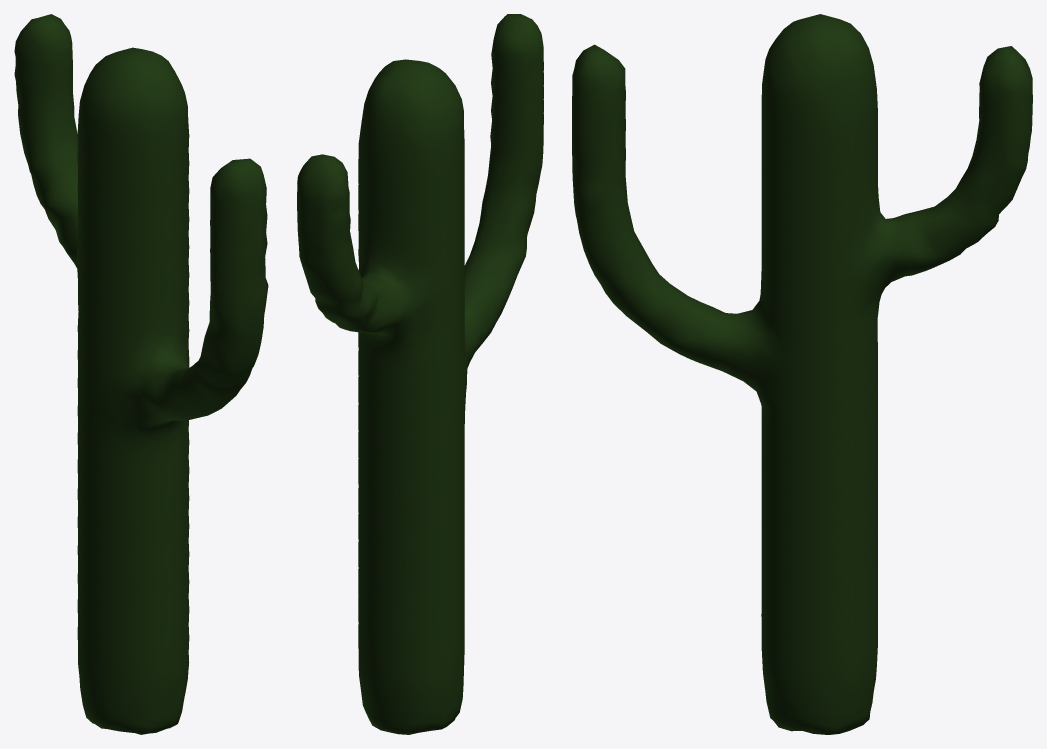
File: cactus_highres_centered.obj
3 views of the same model, side by side, from view 1: azimuth 30°, elevation 25°; view 2: azimuth 150°, elevation 25°; view 3: azimuth 270°, elevation 25° (orthographic). The views are drawn at different scales.
Parts seen in each view (by area): view 1: cactus_highres_centered; view 2: cactus_highres_centered; view 3: cactus_highres_centered.
Boxes of the visible parts, left/top/right/bottom form: cactus_highres_centered: left=14, top=14, right=268, bottom=734; cactus_highres_centered: left=297, top=14, right=543, bottom=734; cactus_highres_centered: left=572, top=14, right=1032, bottom=734.
Size of the model in its own units: 0.1227 by 0.8235 by 0.4916.
